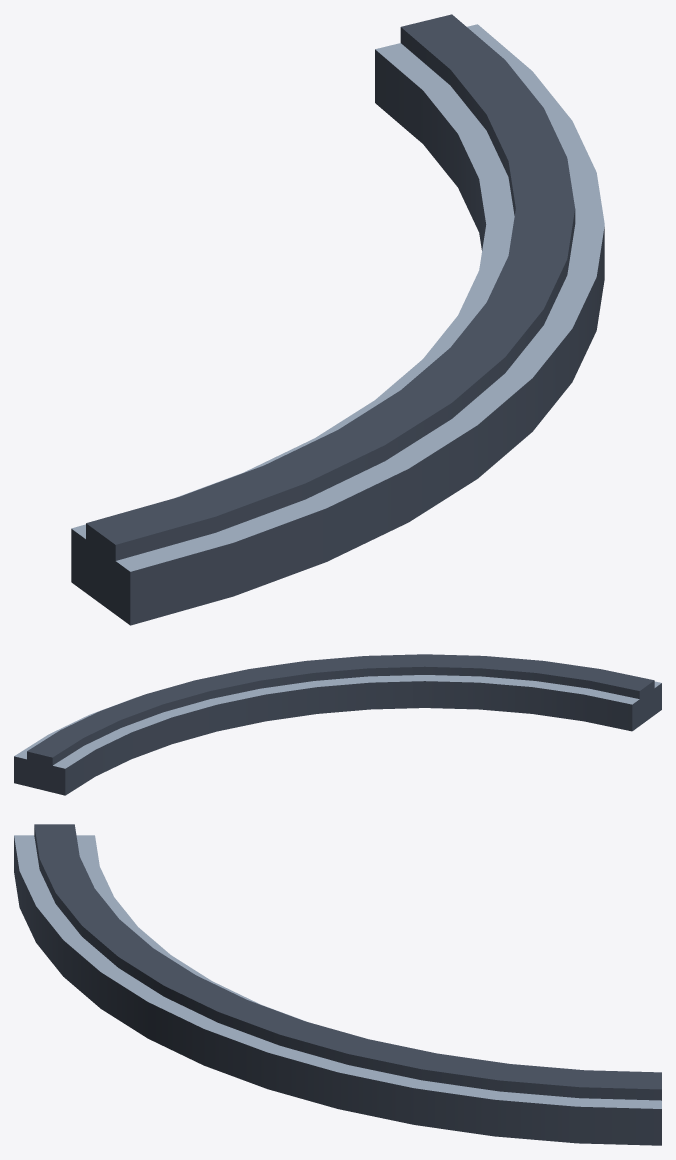
File: monorail_trackCornerLarge.glb
The picture shows the model from 3 angles, top to bottom: view 1: azimuth 30°, elevation 25°; view 2: azimuth 150°, elevation 25°; view 3: azimuth 270°, elevation 25°; orthographic projection. The views are drawn at different scales.
Parts seen in each view (by area): view 1: monorail_trackCornerLarge; view 2: monorail_trackCornerLarge; view 3: monorail_trackCornerLarge.
Boxes of the visible parts, <box> form: monorail_trackCornerLarge: <box>71,14,604,625</box>; monorail_trackCornerLarge: <box>14,654,661,795</box>; monorail_trackCornerLarge: <box>14,824,661,1145</box>.
Size of the model in its own units: 1.6 by 0.13 by 1.6.
